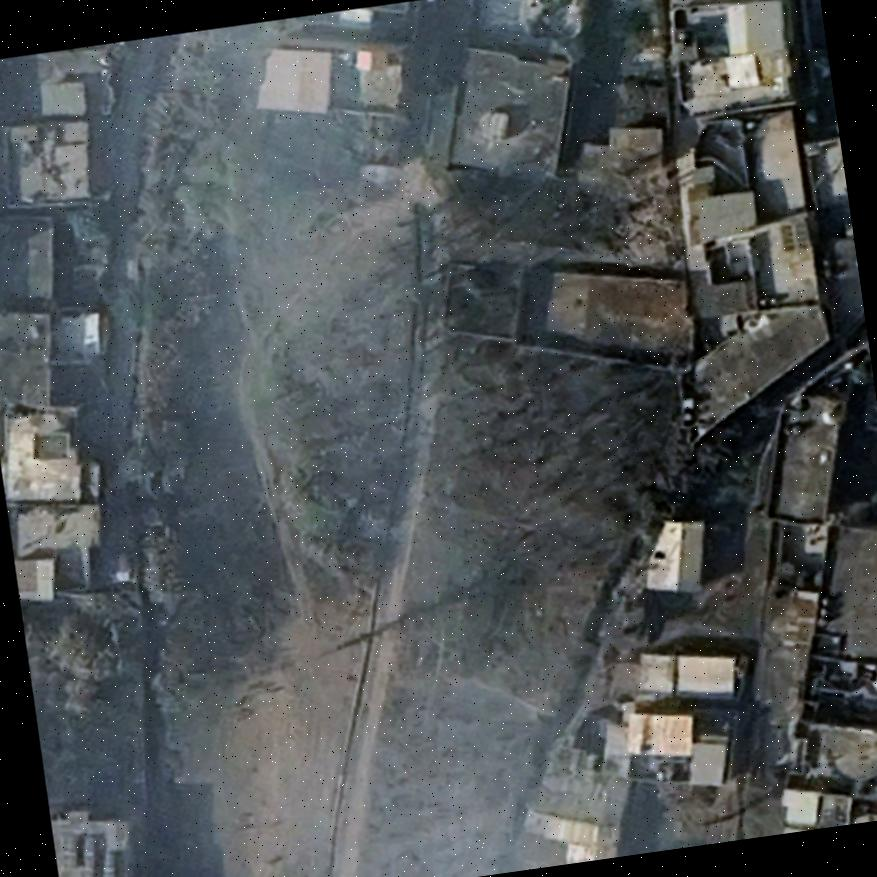Solarpanel: (776, 216, 812, 254), (79, 829, 98, 877), (61, 827, 77, 868), (99, 848, 117, 877)
